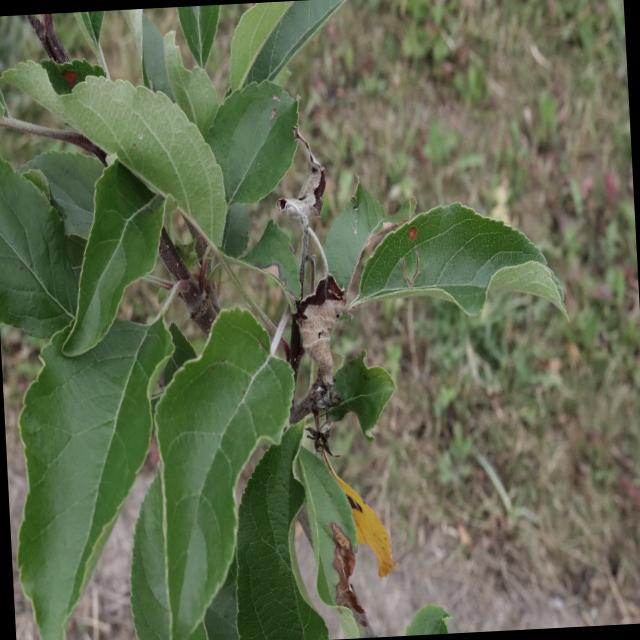-FireBlight-: (280, 272, 350, 391)
